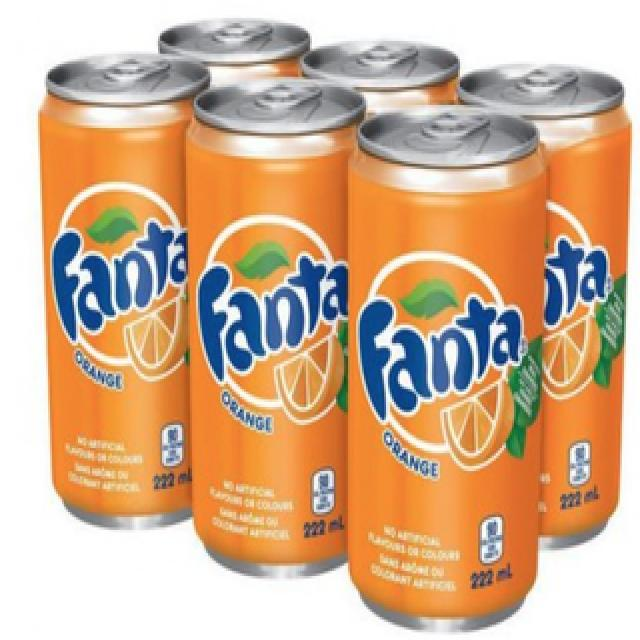fanta: (343, 102, 543, 616), (189, 71, 373, 571), (37, 57, 221, 542), (454, 70, 628, 547)
